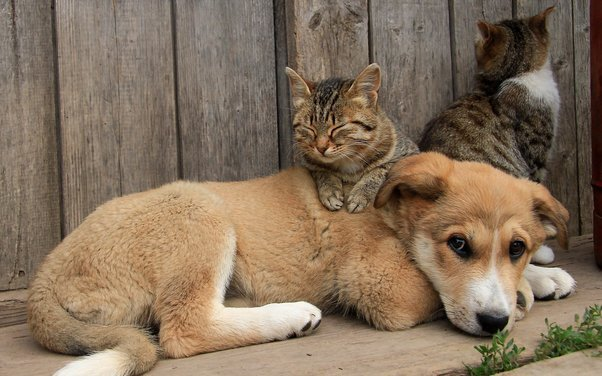anjing: (17, 164, 578, 356)
kucing: (426, 2, 568, 170), (276, 56, 402, 188)
